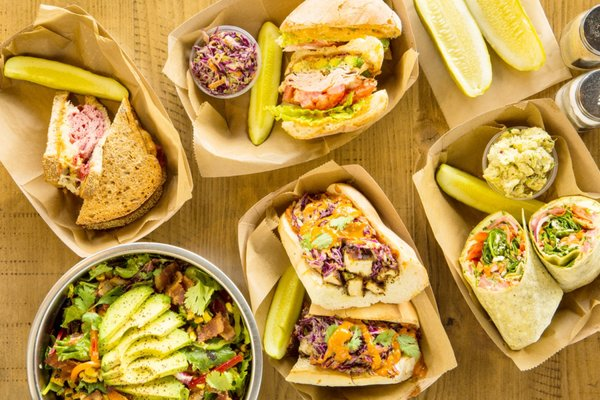soup: (278, 182, 428, 312), (270, 35, 391, 140), (73, 95, 166, 229)
sushi: (25, 245, 263, 398), (528, 194, 600, 291), (559, 1, 600, 77), (557, 66, 600, 132)
